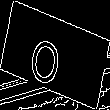O_N: (36, 25, 74, 85)
